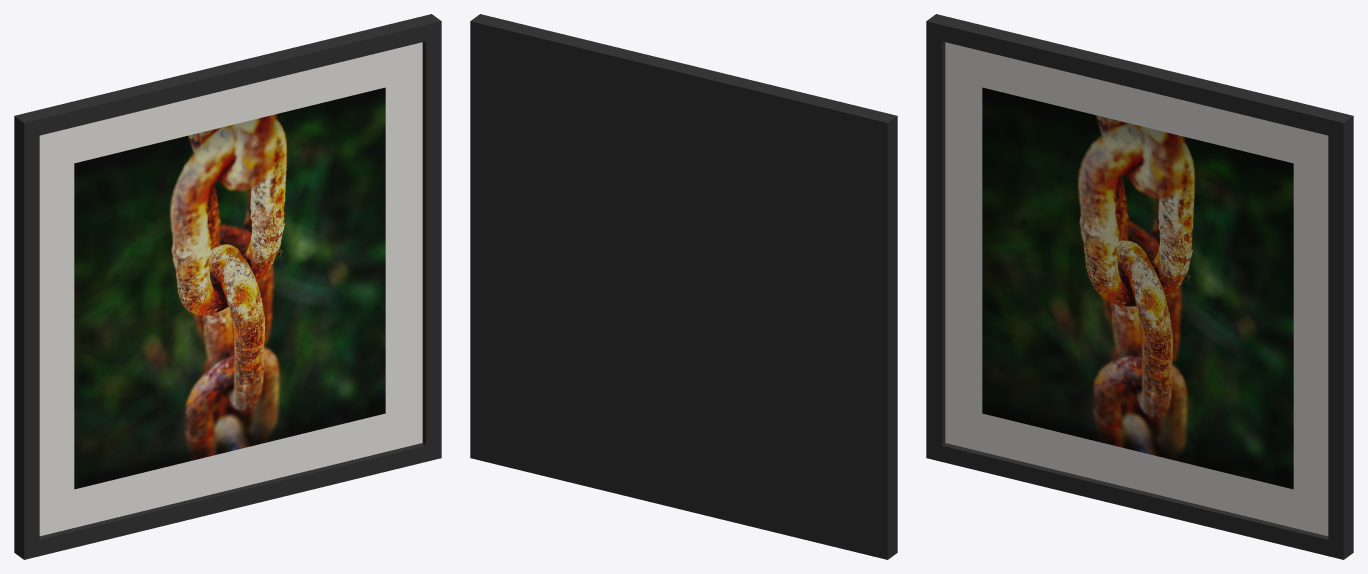
Rendered from kedjan-40.gltf.
3 renders of one model, left to right at view 1: azimuth 30°, elevation 25°; view 2: azimuth 150°, elevation 25°; view 3: azimuth 330°, elevation 25°, orthographic.
Visible parts, largest first — view 1: tavla; view 2: tavla; view 3: tavla.
Boxes of the visible parts, x1,y1,x2,y2 form: tavla: (14, 14, 441, 559); tavla: (470, 14, 897, 559); tavla: (926, 14, 1353, 559).
Bounding box in the file's own units: 0.536 × 0.536 × 0.022.
Materials: 3 (1 with a texture image).
